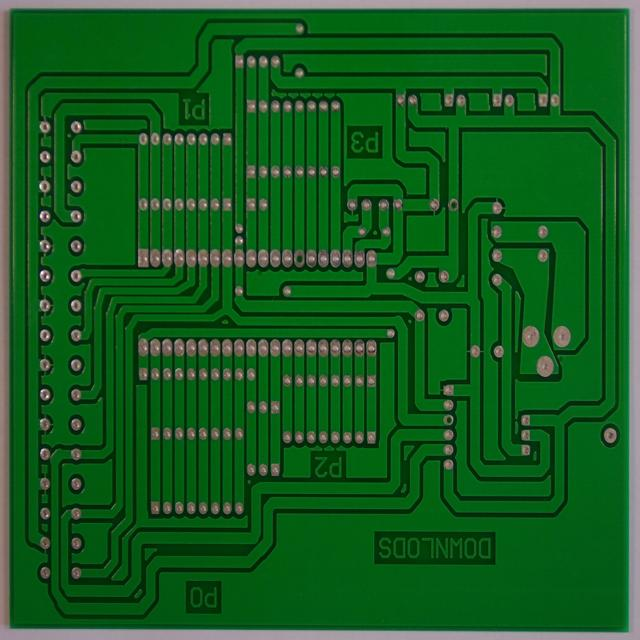missing_hole: (293, 248, 306, 268), (447, 195, 458, 214), (443, 412, 454, 427)
